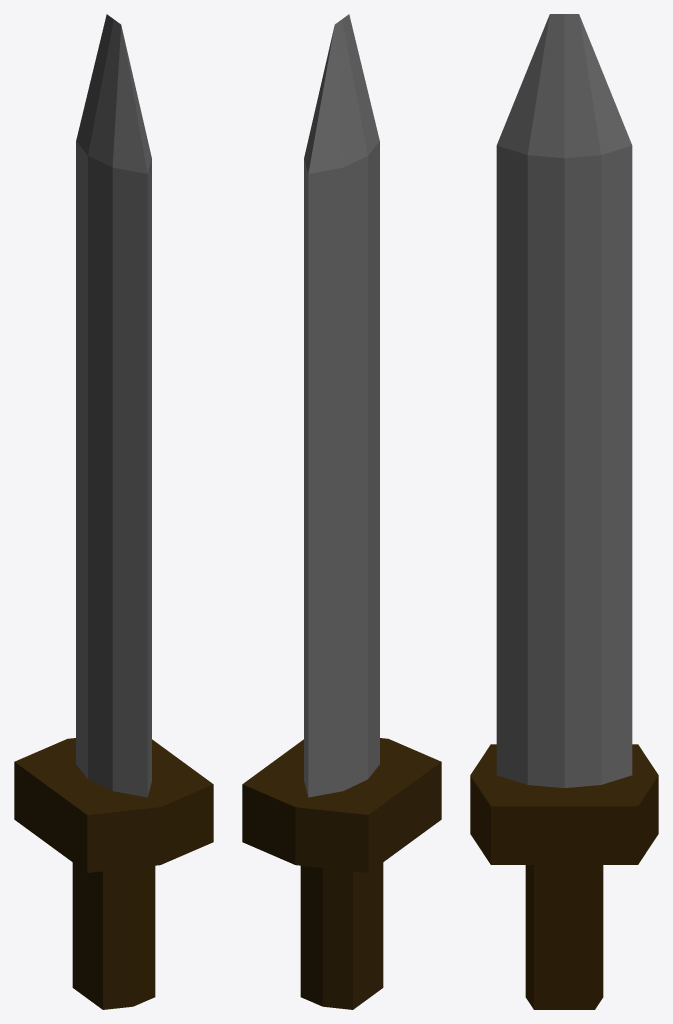
The model's file is Sword.fbx.
3 views of the same model, side by side, from view 1: azimuth 30°, elevation 25°; view 2: azimuth 150°, elevation 25°; view 3: azimuth 270°, elevation 25° (orthographic).
Visible parts, largest first — view 1: Cube; view 2: Cube; view 3: Cube.
Part boxes in pixels (x1,y1,x2,y2): Cube: (14,14,213,1009); Cube: (242,14,441,1009); Cube: (470,14,658,1009).
Bounding box in the file's own units: 200 × 1474 × 256.
